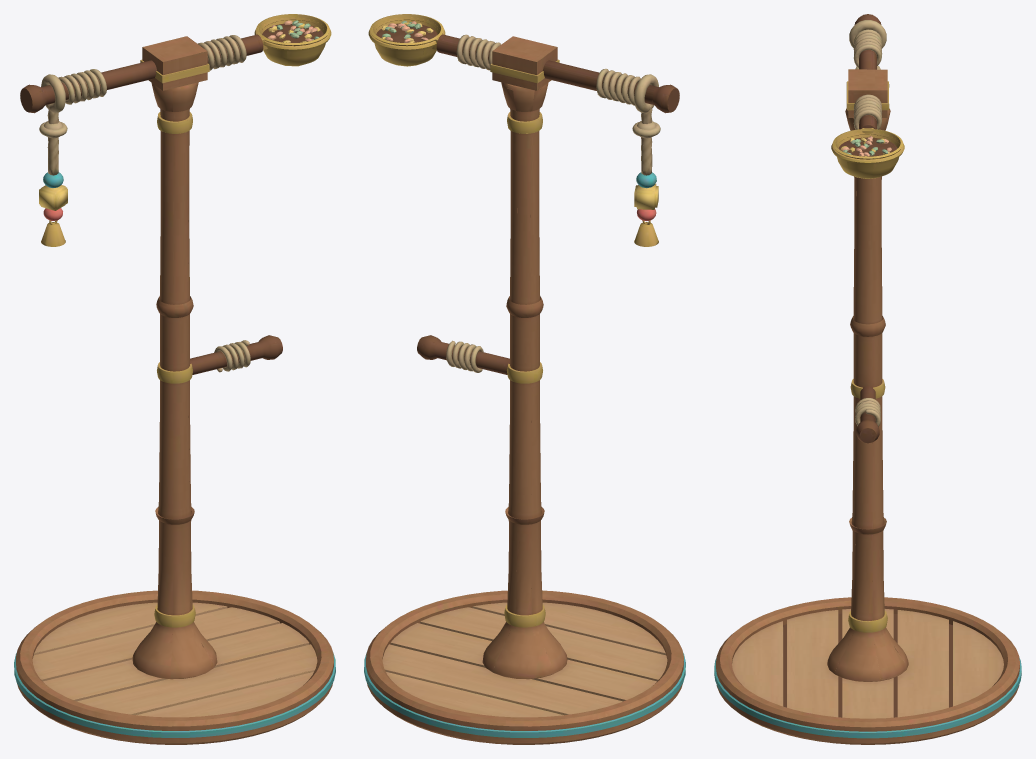
The model's file is loro.glb.
3 views of the same model, side by side, from view 1: azimuth 30°, elevation 25°; view 2: azimuth 150°, elevation 25°; view 3: azimuth 270°, elevation 25° (orthographic). The views are drawn at different scales.
Visible parts, largest first — view 1: parrot-perch_body; view 2: parrot-perch_body; view 3: parrot-perch_body.
Boxes of the visible parts, box(x1,y1,x2,y2) form: parrot-perch_body: box(14, 14, 335, 744); parrot-perch_body: box(364, 14, 685, 744); parrot-perch_body: box(714, 14, 1021, 744).
Size of the model in its own units: 0.6657 by 1.34 by 0.619.
1 material, 1 textured.
